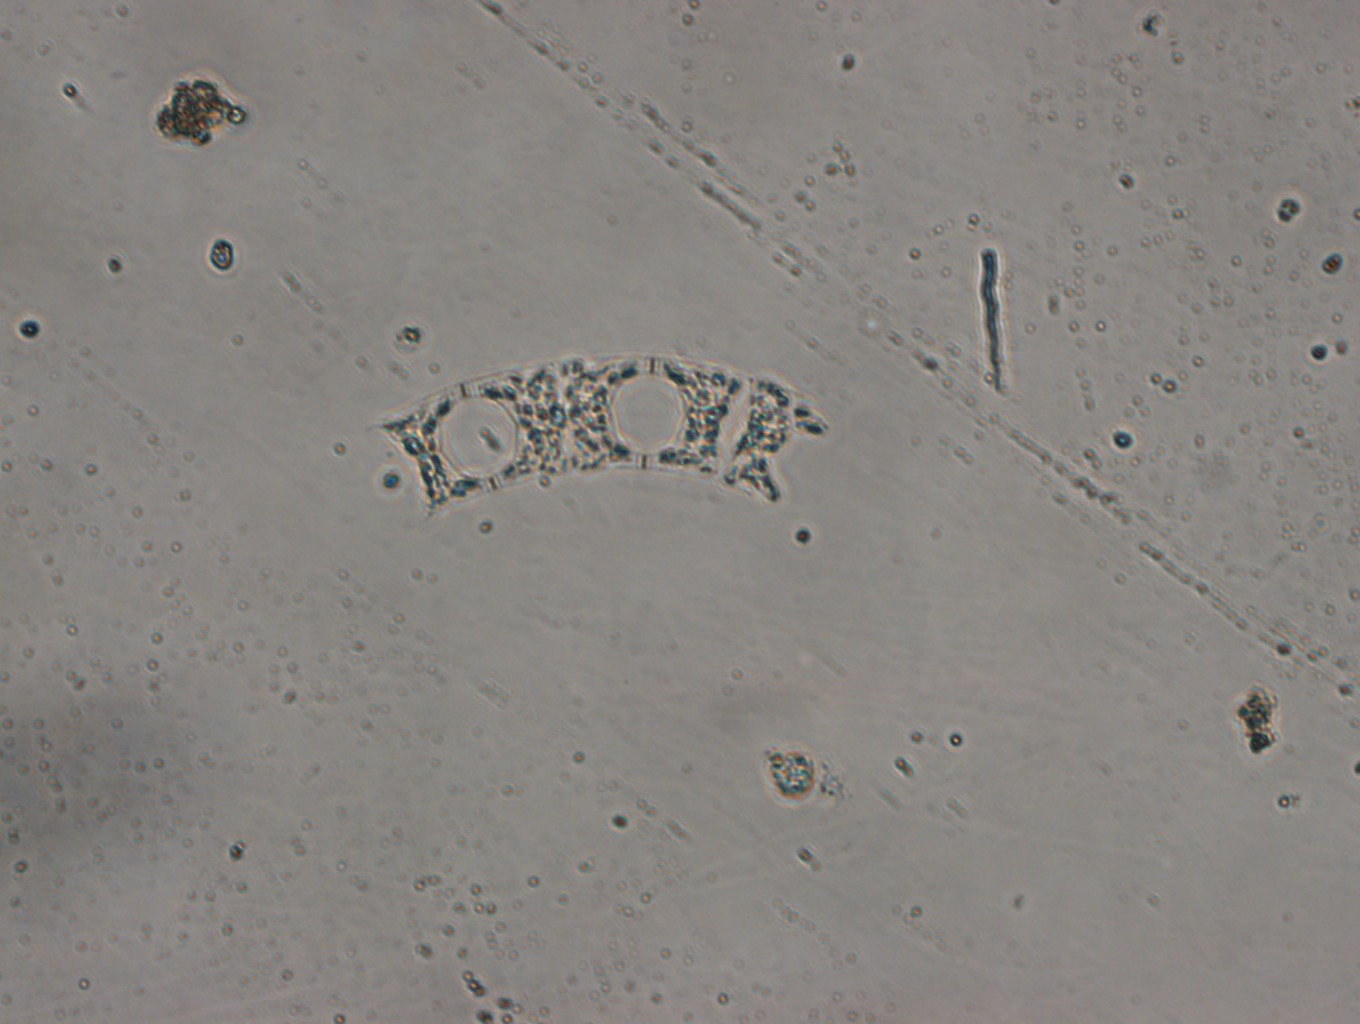eucampia: (377, 350, 833, 520)
